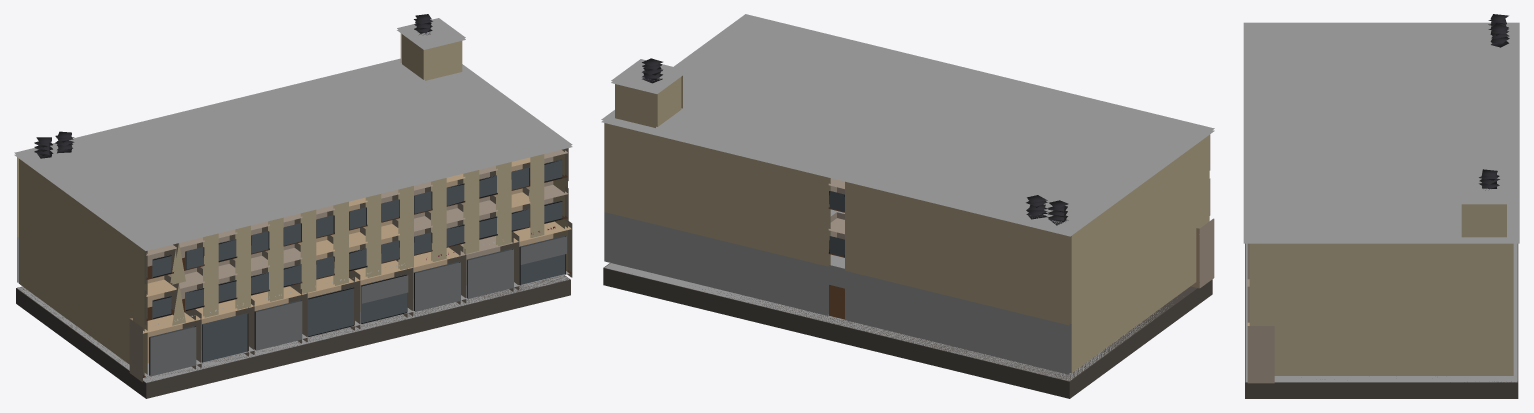
File: commercial_34x18_3_far.glb
3 renders of one model, left to right at view 1: azimuth 30°, elevation 25°; view 2: azimuth 150°, elevation 25°; view 3: azimuth 270°, elevation 25°, orthographic. The views are drawn at different scales.
Parts seen in each view (by area): view 1: commercial_34x18_3; view 2: commercial_34x18_3; view 3: commercial_34x18_3.
Part boxes in pixels (bbox=[...]): commercial_34x18_3: bbox=[14, 14, 572, 398]; commercial_34x18_3: bbox=[601, 14, 1214, 398]; commercial_34x18_3: bbox=[1243, 14, 1519, 398].
Size of the model in its own units: 34.5 by 15.35 by 18.33.
